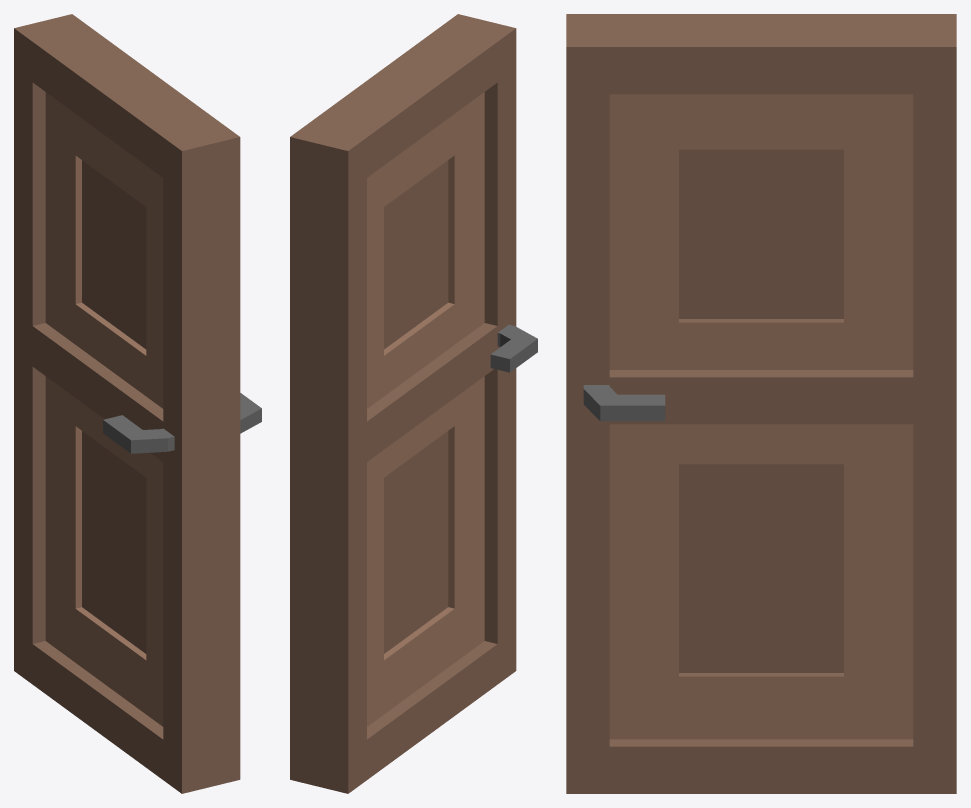
The model's file is interior door.fbx.
3 renders of one model, left to right at view 1: azimuth 30°, elevation 25°; view 2: azimuth 150°, elevation 25°; view 3: azimuth 270°, elevation 25°, orthographic. The views are drawn at different scales.
Parts seen in each view (by area): view 1: cube, cube_1, cube_2, cube_20, cube_6, cube_7, cube_3, cube_5, cube_8, cube_11, cube_4, cube_10 (+10 smaller); view 2: cube, cube_2, cube_1, cube_6, cube_24, cube_7, cube_3, cube_5, cube_4, cube_8, cube_12, cube_9 (+9 smaller); view 3: cube, cube_24, cube_20, cube_13, cube_18, cube_19, cube_21, cube_22, cube_23, cube_16, cube_17, cube_14 (+5 smaller).
Part boxes in pixels (x1,y1,x2,y2): cube: (33, 18, 220, 789); cube_1: (163, 134, 194, 793); cube_2: (14, 25, 45, 684); cube_20: (209, 123, 240, 782); cube_6: (45, 282, 201, 513); cube_7: (45, 587, 201, 790); cube_3: (32, 38, 175, 177); cube_5: (32, 641, 163, 779); cube_8: (27, 23, 201, 242); cube_11: (45, 404, 81, 608); cube_4: (32, 323, 163, 461); cube_10: (45, 134, 81, 303); cube: (309, 18, 496, 789); cube_2: (335, 134, 366, 793); cube_1: (484, 25, 516, 683); cube_6: (329, 282, 484, 513); cube_24: (290, 123, 321, 782); cube_7: (329, 587, 484, 790); cube_3: (354, 38, 497, 177); cube_5: (367, 641, 497, 779); cube_4: (367, 323, 497, 461); cube_8: (329, 23, 502, 242); cube_12: (448, 404, 484, 608); cube_9: (448, 133, 484, 303); cube: (566, 25, 956, 672); cube_24: (913, 39, 956, 793); cube_20: (566, 39, 609, 793); cube_13: (609, 319, 913, 464); cube_18: (609, 673, 913, 739); cube_19: (566, 36, 956, 149); cube_21: (609, 39, 913, 94); cube_22: (609, 739, 913, 793); cube_23: (609, 370, 913, 424); cube_16: (609, 464, 678, 676); cube_17: (844, 464, 913, 676); cube_14: (609, 149, 678, 322).
Bounding box in the file's own units: 12.65 × 59.38 × 28.12.
1 material, 1 textured.
